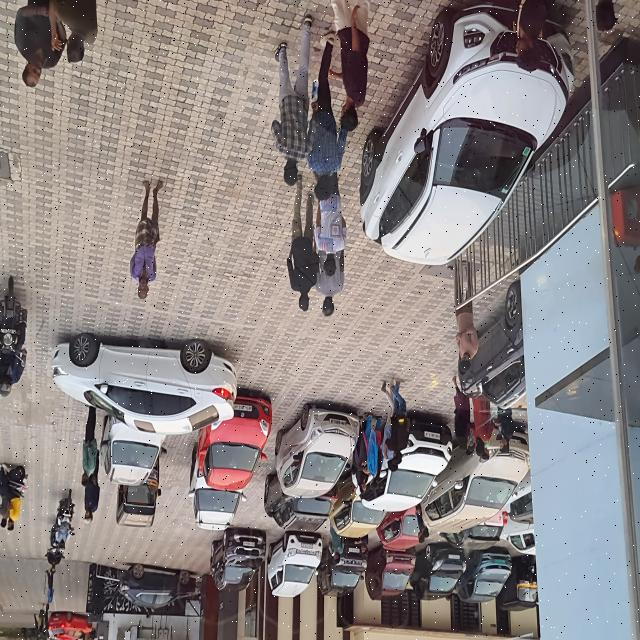humans: (268, 12, 320, 190), (331, 0, 382, 138), (309, 14, 345, 208), (129, 170, 172, 308), (283, 180, 324, 314), (486, 0, 555, 74), (311, 174, 358, 280), (9, 0, 57, 95), (449, 258, 480, 378), (51, 0, 105, 66), (311, 246, 349, 328), (0, 316, 34, 407), (445, 369, 474, 456), (360, 411, 384, 492), (470, 385, 496, 459), (79, 407, 101, 488), (379, 379, 397, 477), (391, 374, 408, 465), (81, 474, 106, 526), (354, 413, 369, 495), (6, 458, 22, 530), (494, 408, 515, 459), (54, 516, 74, 556), (327, 522, 345, 564), (45, 528, 59, 580), (0, 454, 9, 533), (43, 567, 53, 613), (412, 505, 423, 546), (422, 508, 430, 542), (353, 538, 370, 554)
